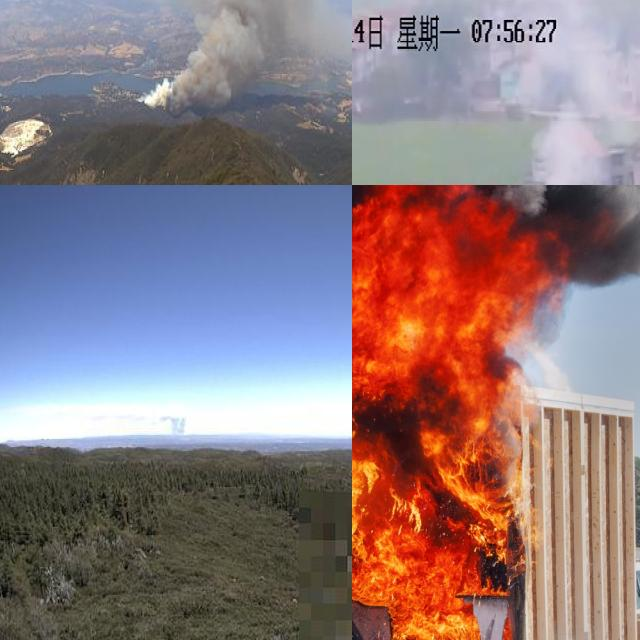fire: (352, 185, 561, 640)
smoke: (123, 0, 326, 113), (516, 43, 628, 185), (509, 185, 640, 282), (155, 407, 188, 444)
